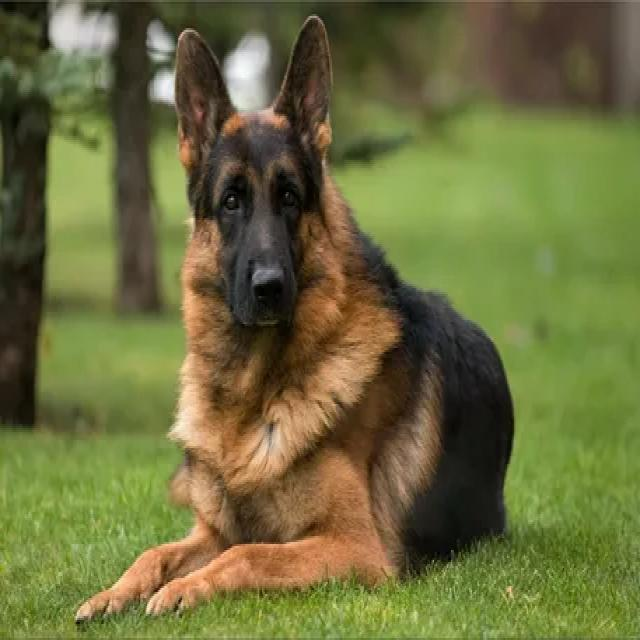Dog: (171, 18, 350, 600)
